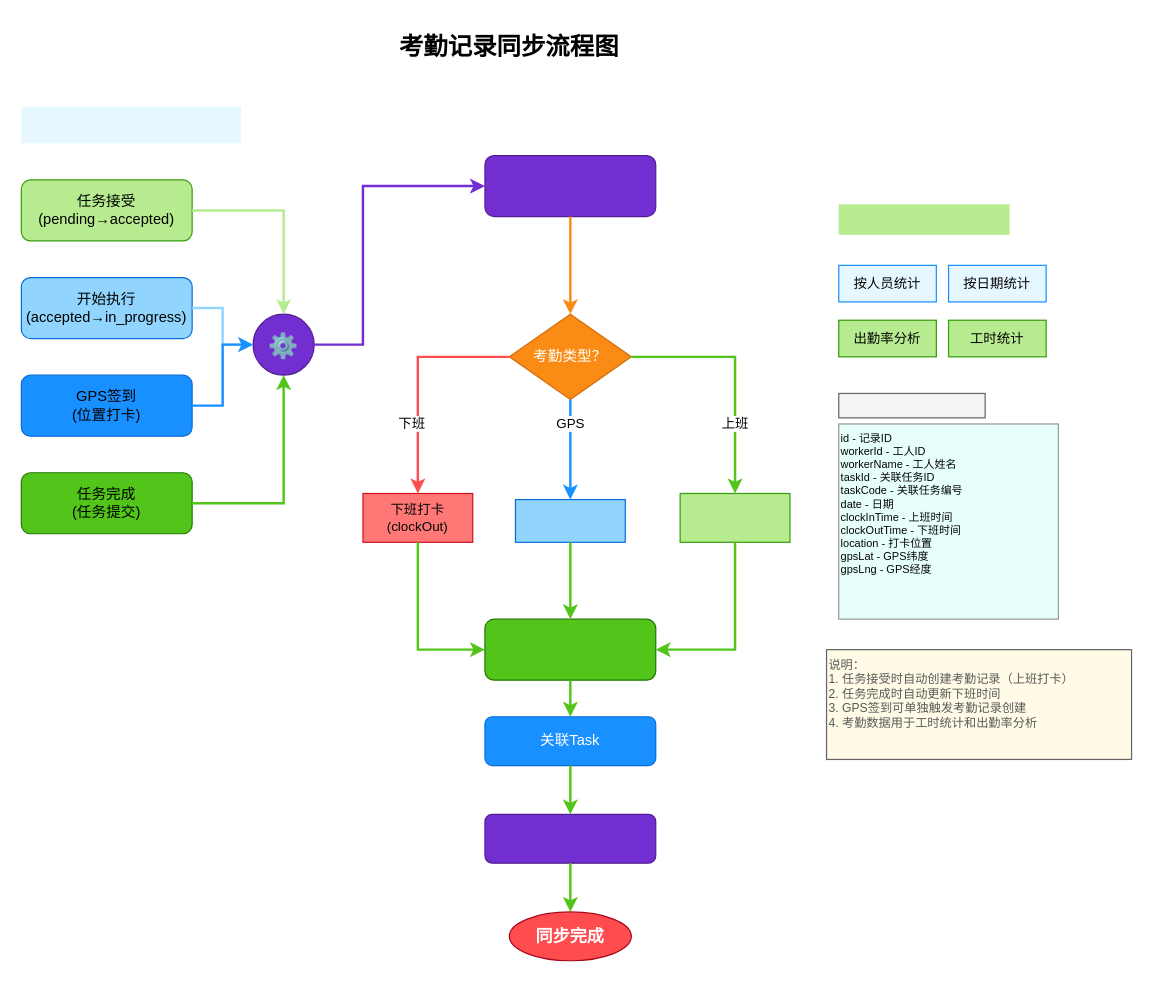
The diagram is 1153 pixels wide and 982 high, and some of its shapes have lost their labels. The shapes that lost their labels are listed below. From the top down, each one's box as (x1, y1, x2, y2) in pixels, then its label:
(21, 106, 240, 143): 同步触发场景
(484, 154, 656, 217): usePersistentAttendance 自动同步
(838, 204, 1009, 234): 考勤记录展示
(838, 392, 985, 418): Attendance字段：
(514, 498, 625, 542): GPS签到
(679, 492, 790, 542): 上班打卡 (clockIn)
(484, 618, 656, 680): 保存到localStorage ATTENDANCE
(484, 813, 656, 863): 记录操作日志
